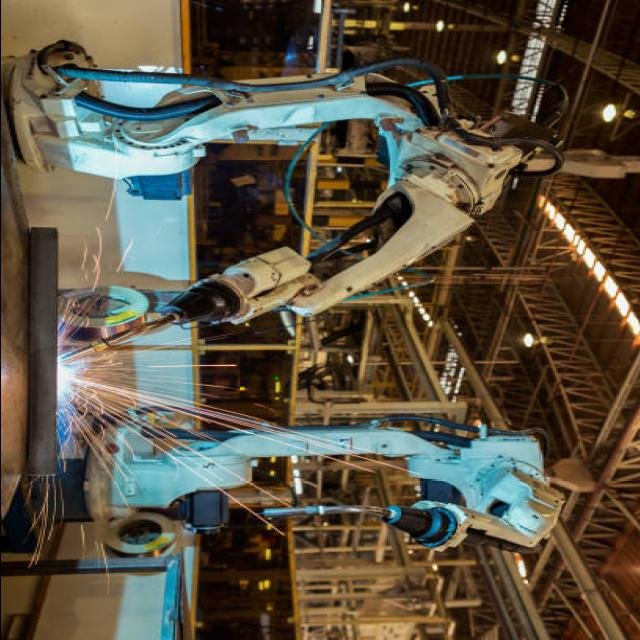Robotic-arm: (1, 44, 550, 328), (97, 413, 567, 562)
